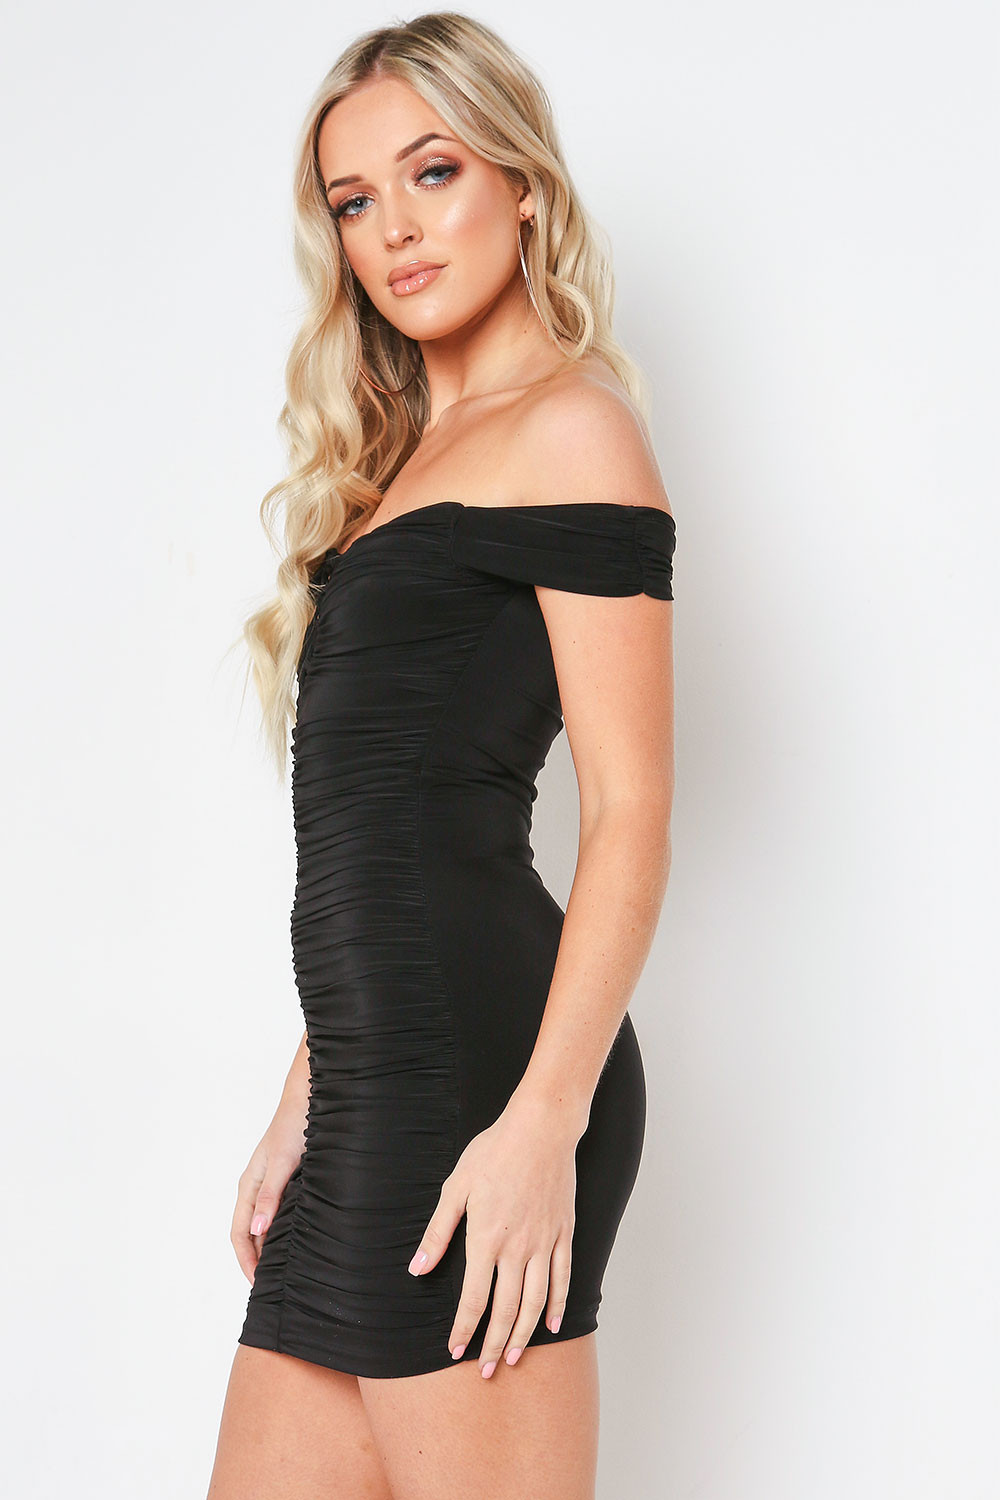S_dress: (179, 458, 720, 1355)
